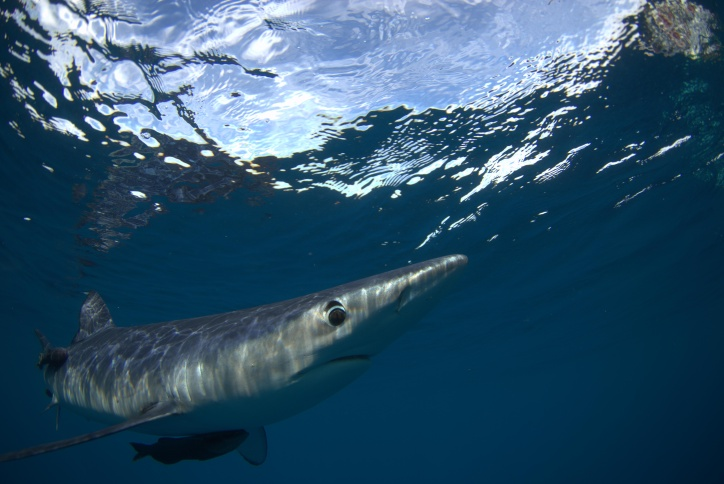Azul: (1, 241, 491, 481)
